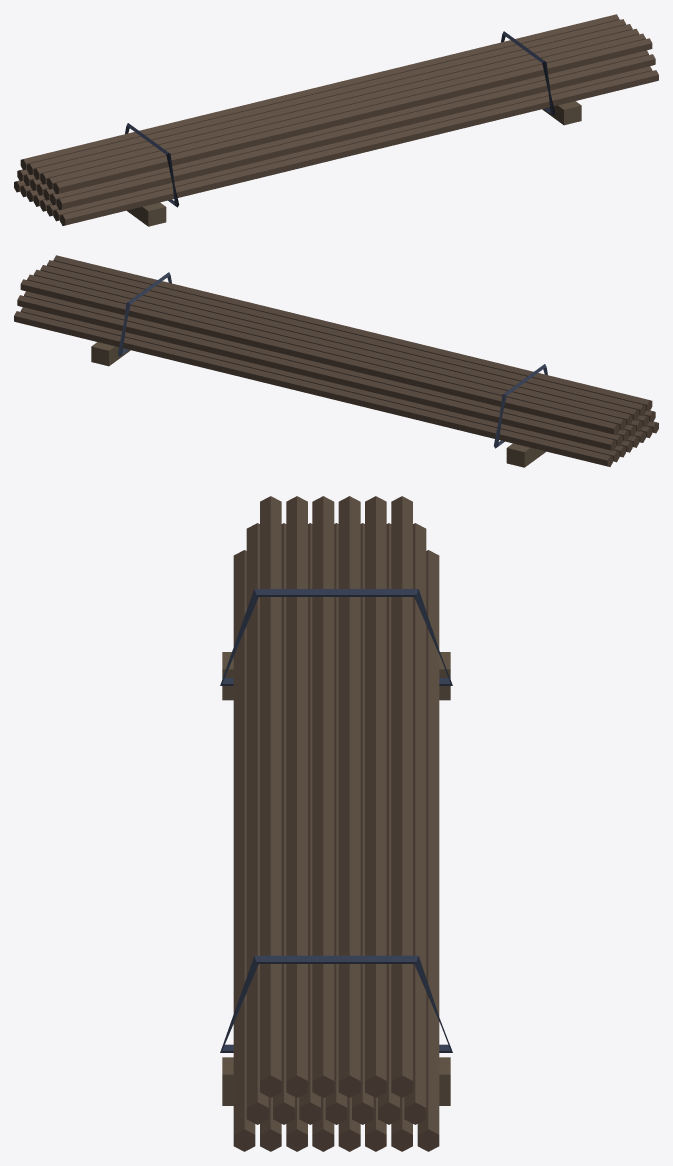
Rendered from build_rebar_bundle.glb.
3 renders of one model, top to bottom at view 1: azimuth 30°, elevation 25°; view 2: azimuth 150°, elevation 25°; view 3: azimuth 270°, elevation 25°, orthographic. The views are drawn at different scales.
Parts seen in each view (by area): view 1: rust, formwork_plywood, trim; view 2: rust, formwork_plywood, trim; view 3: rust, trim, formwork_plywood.
Part boxes in pixels (box(x1,y1,x2,y2)): rust: box(14, 14, 658, 225); formwork_plywood: box(127, 101, 581, 226); trim: box(125, 31, 554, 207); rust: box(14, 255, 658, 466); formwork_plywood: box(91, 342, 545, 467); trim: box(118, 272, 547, 448); rust: box(233, 496, 439, 1151); trim: box(220, 589, 452, 1052); formwork_plywood: box(222, 652, 450, 1105).
Bounding box in the file's own units: 6 × 0.5896 × 1.02.
